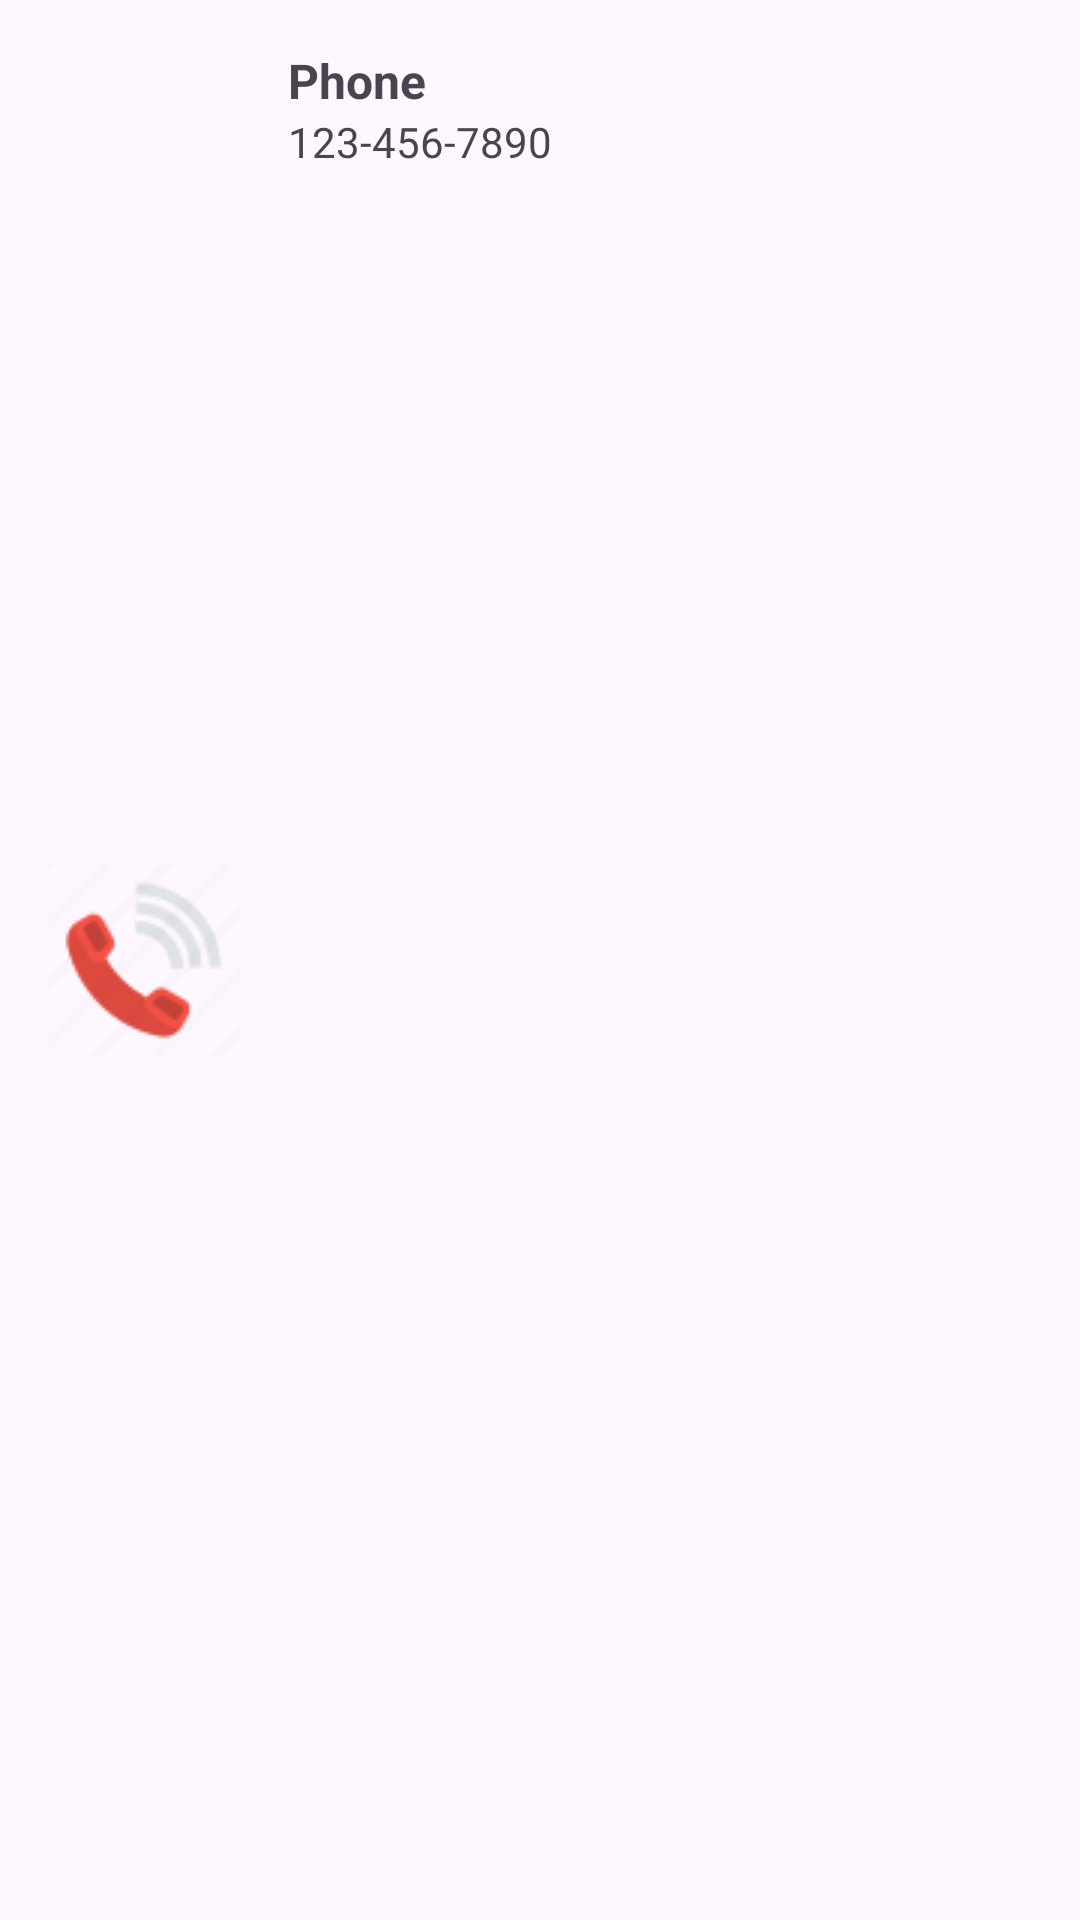

Named icons in this screenshot (1080*1920) and their centers, point (x, y):
phone: point (142, 961)
